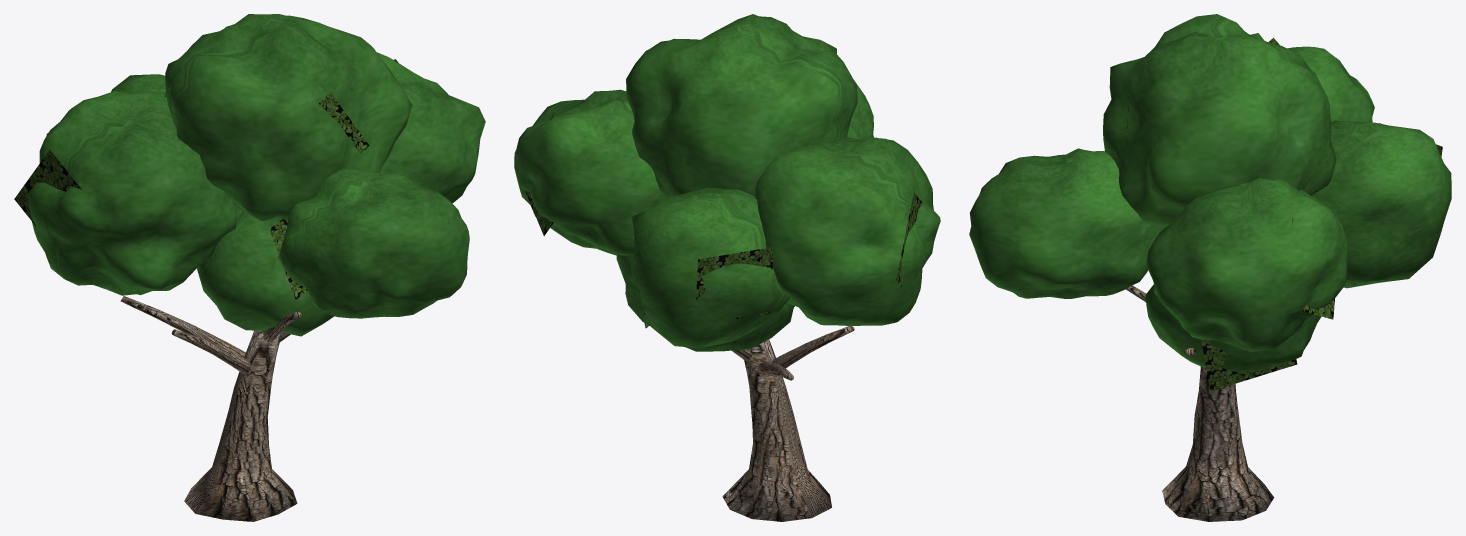
The model's file is tree_broadleaf_hd.glb.
3 renders of one model, left to right at view 1: azimuth 30°, elevation 25°; view 2: azimuth 150°, elevation 25°; view 3: azimuth 270°, elevation 25°, orthographic. The views are drawn at different scales.
Visible parts, largest first — view 1: BroadleafHD; view 2: BroadleafHD; view 3: BroadleafHD.
Part boxes in pixels (left/top/right/bottom): BroadleafHD: left=14, top=14, right=485, bottom=521; BroadleafHD: left=514, top=14, right=940, bottom=521; BroadleafHD: left=969, top=14, right=1451, bottom=521.
Bounding box in the file's own units: 10.09 × 10.92 × 9.94.
1 material, 1 textured.
